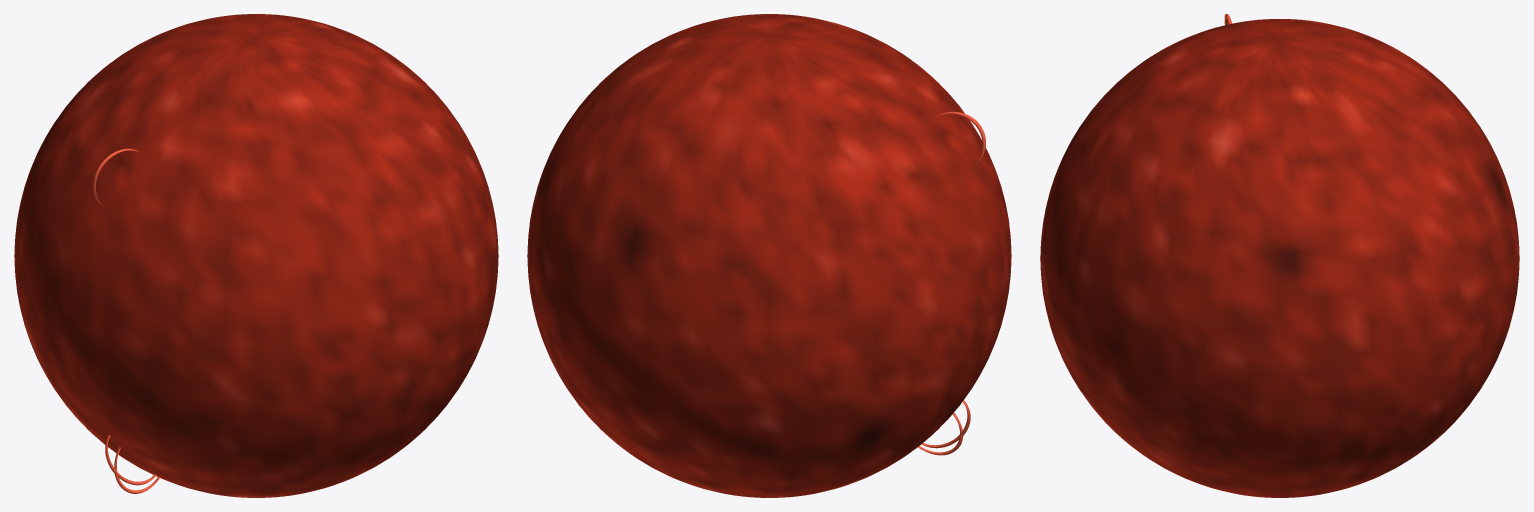
Rendered from Star_33.fbx.
The picture shows the model from 3 angles, left to right: view 1: azimuth 30°, elevation 25°; view 2: azimuth 150°, elevation 25°; view 3: azimuth 270°, elevation 25°; orthographic projection.
Visible parts, largest first — view 1: Star_33; view 2: Star_33; view 3: Star_33.
Boxes of the visible parts, box(x1,y1,x2,y2) form: Star_33: box(14, 14, 498, 497); Star_33: box(527, 14, 1011, 497); Star_33: box(1040, 14, 1519, 497).
Bounding box in the file's own units: 200 × 200 × 200.
